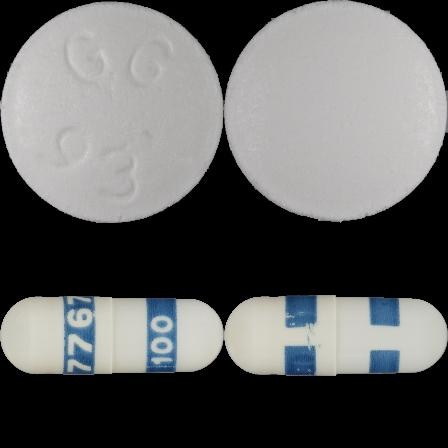54868-4102: (0, 0, 224, 224)
